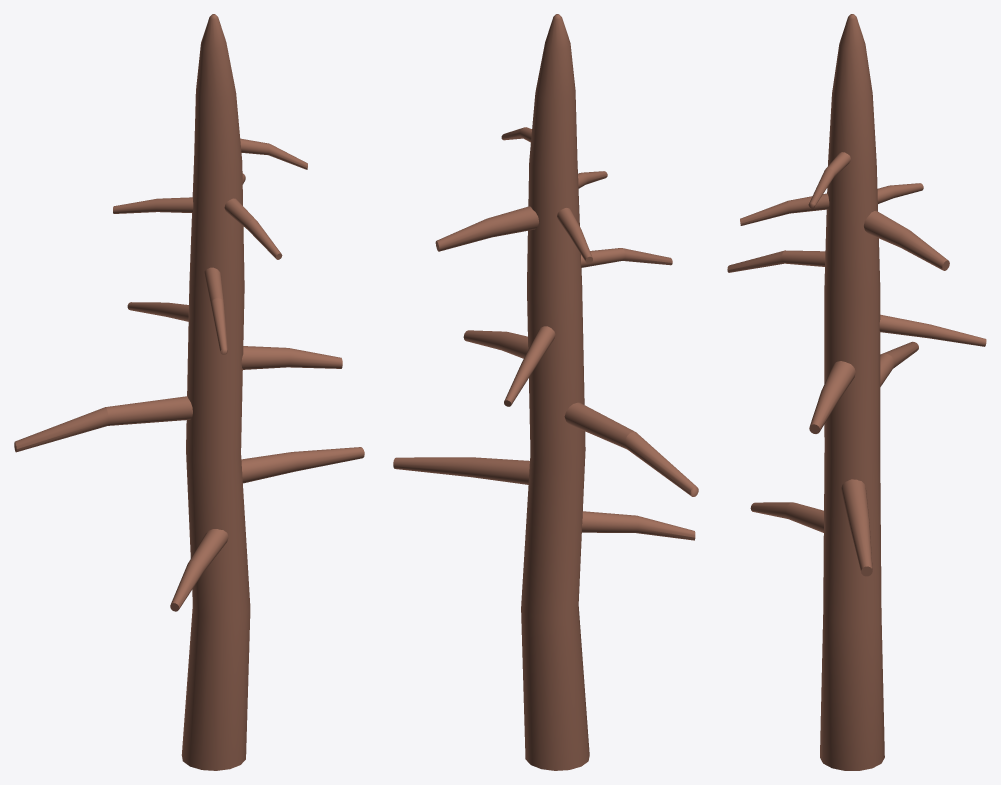
The model's file is Spruce_Dry_Brown.fbx.
The picture shows the model from 3 angles, left to right: view 1: azimuth 30°, elevation 25°; view 2: azimuth 150°, elevation 25°; view 3: azimuth 270°, elevation 25°; orthographic projection.
Parts seen in each view (by area): view 1: Cylinder.203, Cylinder.205, Cylinder.204, Cylinder.206, Cylinder.207, Cylinder.209, Cylinder.212, Cylinder.213, Cylinder.210, Cylinder.211; view 2: Cylinder.203, Cylinder.205, Cylinder.204, Cylinder.208, Cylinder.207, Cylinder.210, Cylinder.206, Cylinder.209, Cylinder.212; view 3: Cylinder.203, Cylinder.204, Cylinder.208, Cylinder.210, Cylinder.206, Cylinder.207, Cylinder.209, Cylinder.213, Cylinder.205, Cylinder.211, Cylinder.212.
Part boxes in pixels (x1,y1,x2,y2): Cylinder.203: (181,14,250,770); Cylinder.205: (14,396,192,452); Cylinder.204: (241,447,364,483); Cylinder.206: (241,346,342,369); Cylinder.207: (170,529,228,611); Cylinder.209: (204,267,227,354); Cylinder.212: (113,197,193,213); Cylinder.213: (224,198,282,259); Cylinder.210: (127,302,188,321); Cylinder.211: (240,138,307,169); Cylinder.203: (521,14,589,770); Cylinder.205: (564,402,698,496); Cylinder.204: (393,457,529,484); Cylinder.208: (435,206,538,251); Cylinder.207: (582,511,695,540); Cylinder.210: (504,326,555,406); Cylinder.206: (463,330,528,358); Cylinder.209: (581,248,672,267); Cylinder.212: (557,208,592,263); Cylinder.203: (820,14,884,770); Cylinder.204: (841,479,872,576); Cylinder.208: (864,210,949,270); Cylinder.210: (879,314,986,346); Cylinder.206: (809,361,855,433); Cylinder.207: (750,502,823,532); Cylinder.209: (727,250,825,272); Cylinder.213: (740,193,829,225); Cylinder.205: (880,341,918,386); Cylinder.211: (808,152,850,208); Cylinder.212: (877,183,923,203).
Size of the model in its own units: 318 by 694 by 219.
